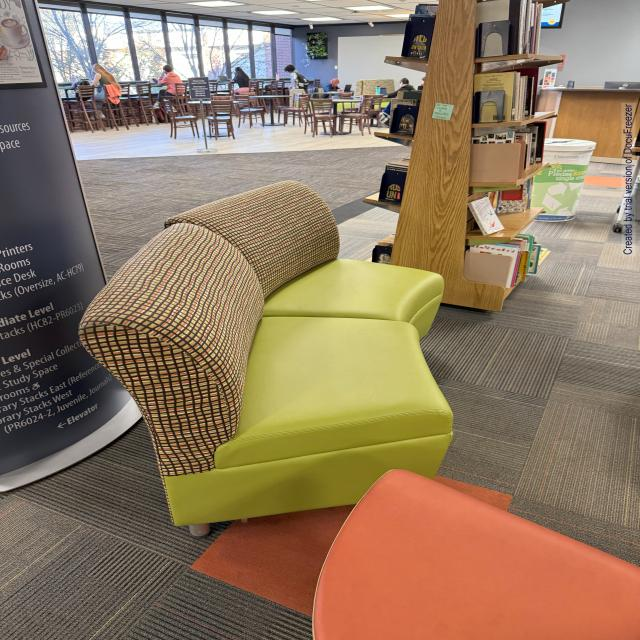chair: (77, 168, 464, 494)
